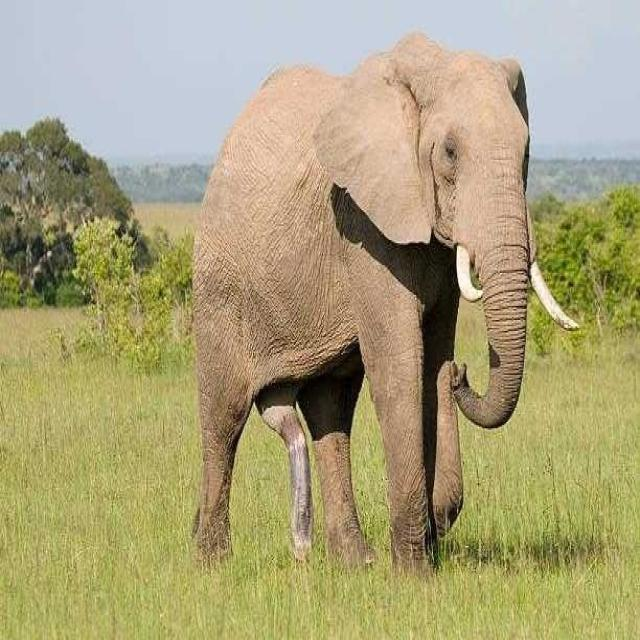Elephant: (190, 28, 580, 577)
